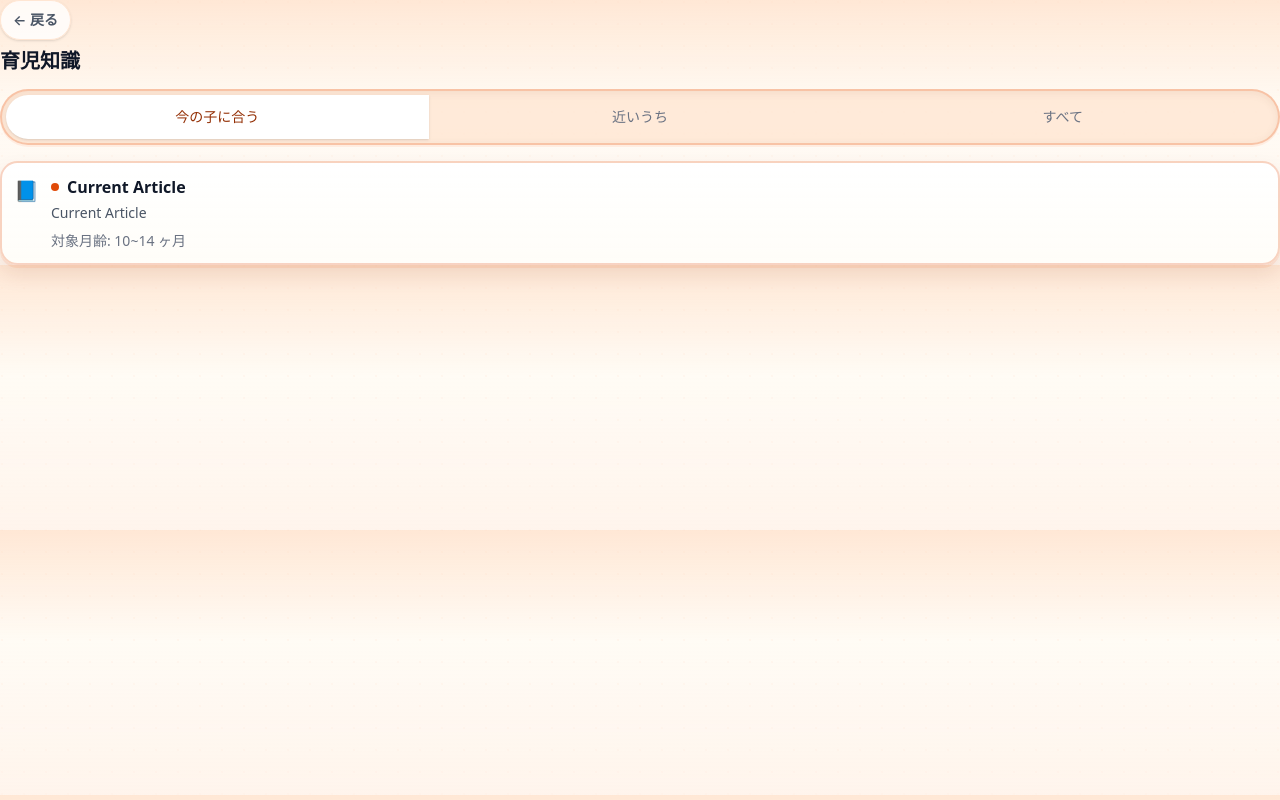
Scenario: KnowledgePage views › separates current, upcoming, and all knowledge
Check: the 1st text "Current Article" is shown, box [67,175,186,199]
What coordinates should you click on to do the following:
click the button "近いうち"
I would click on:
 (640, 117)
Its box is [429,95,851,139].
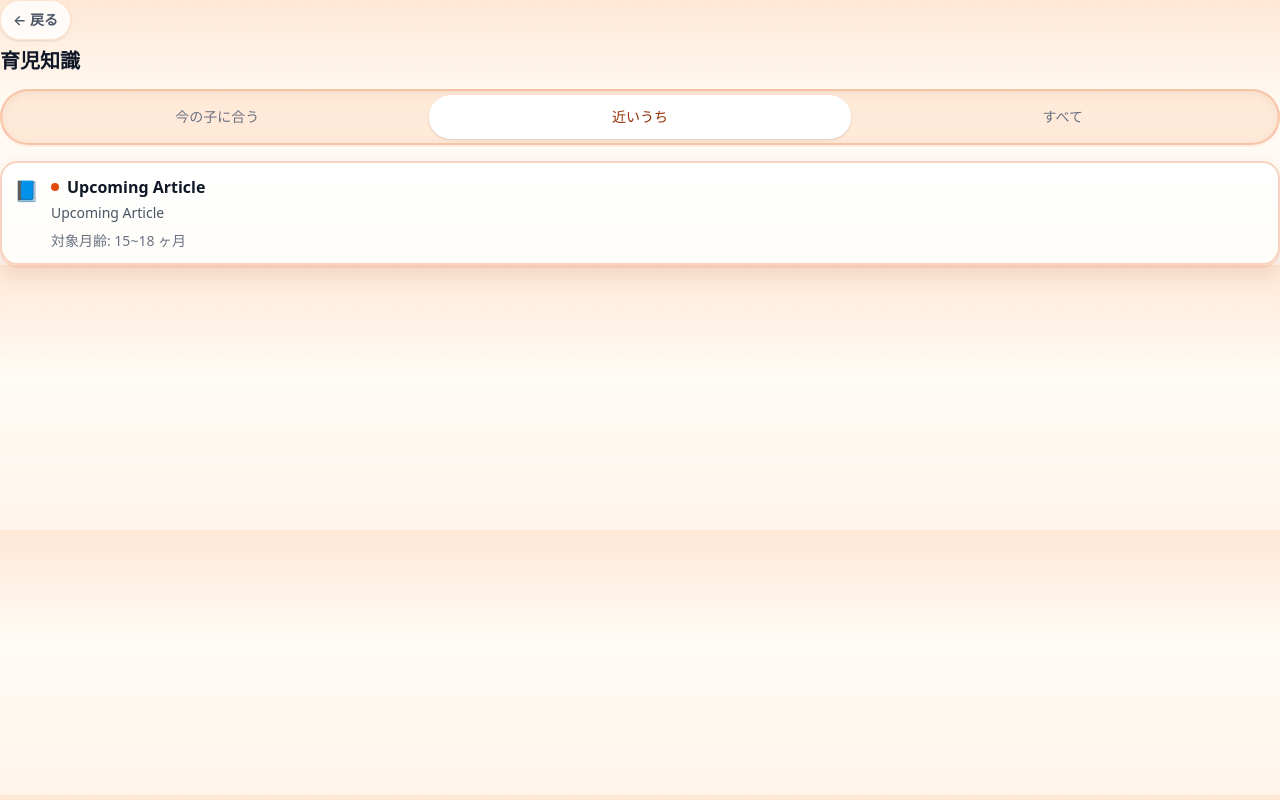
Check: no links "Current Article" are shown
Check: the 1st text "Upcoming Article" is shown, box [67,175,205,199]
What coordinates should you click on to do the following:
click the button "すべて"
I would click on:
 (1063, 117)
Its box is [851,95,1274,139].
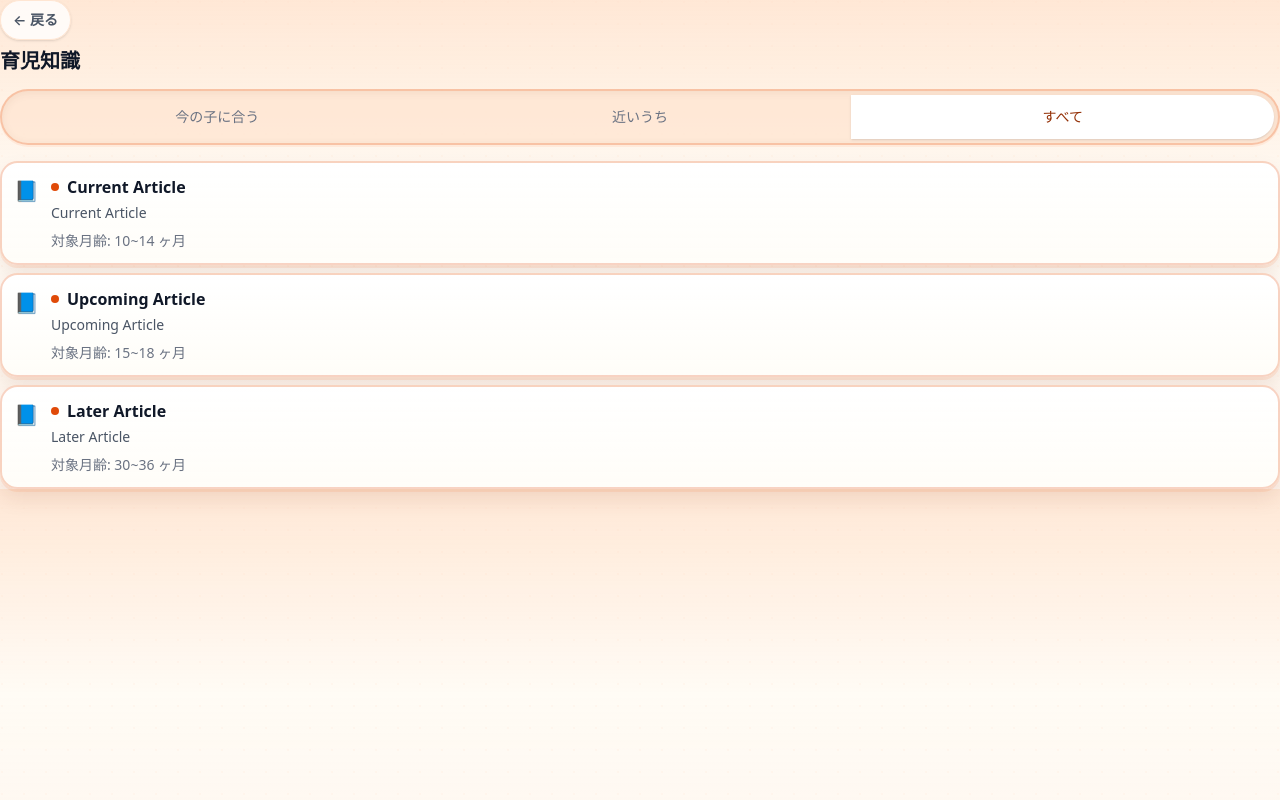
Check: the 1st text "Upcoming Article" is shown, box [67,287,205,311]
Check: the 1st text "Current Article" is shown, box [67,175,186,199]
Check: the 1st text "Later Article" is shown, box [67,399,166,423]
